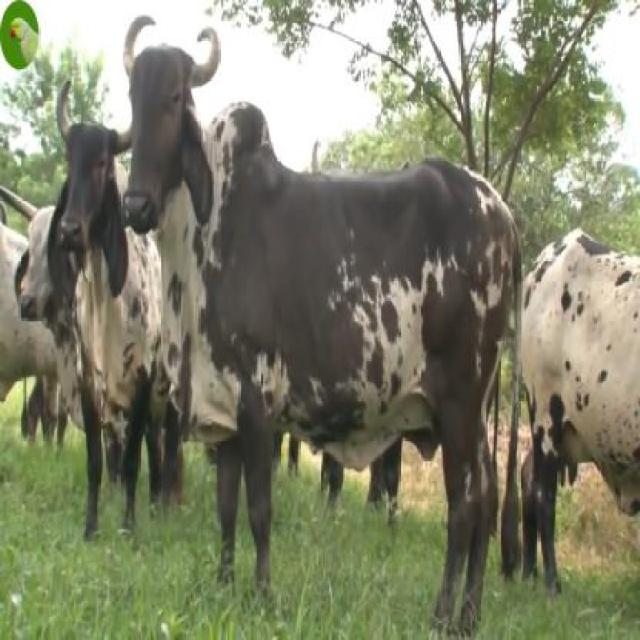Cow: (125, 16, 523, 638), (57, 76, 135, 562)
